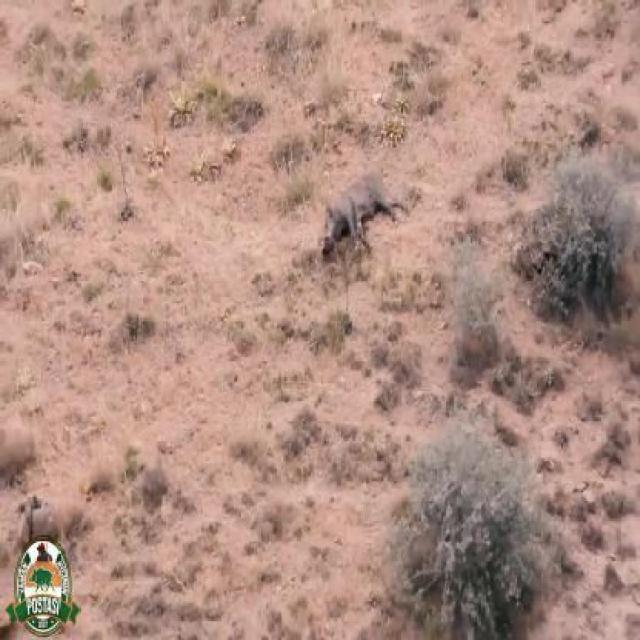WildBoar: (315, 149, 419, 251)
